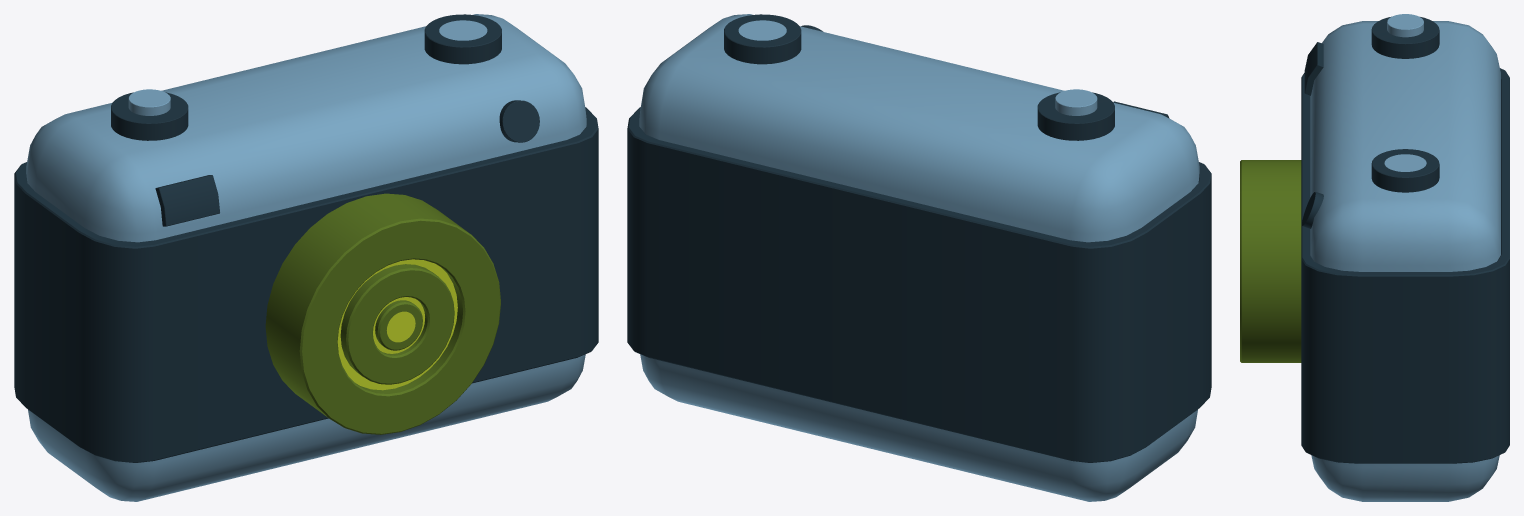
Rendered from Camera.fbx.
The picture shows the model from 3 angles, left to right: view 1: azimuth 30°, elevation 25°; view 2: azimuth 150°, elevation 25°; view 3: azimuth 270°, elevation 25°; orthographic projection. The views are drawn at different scales.
Visible parts, largest first — view 1: Camera; view 2: Camera; view 3: Camera.
Boxes of the visible parts, <box> form: Camera: <box>14,14,598,501</box>; Camera: <box>627,14,1211,501</box>; Camera: <box>1240,14,1509,501</box>.
Bounding box in the file's own units: 12 × 8.34 × 6.32.
